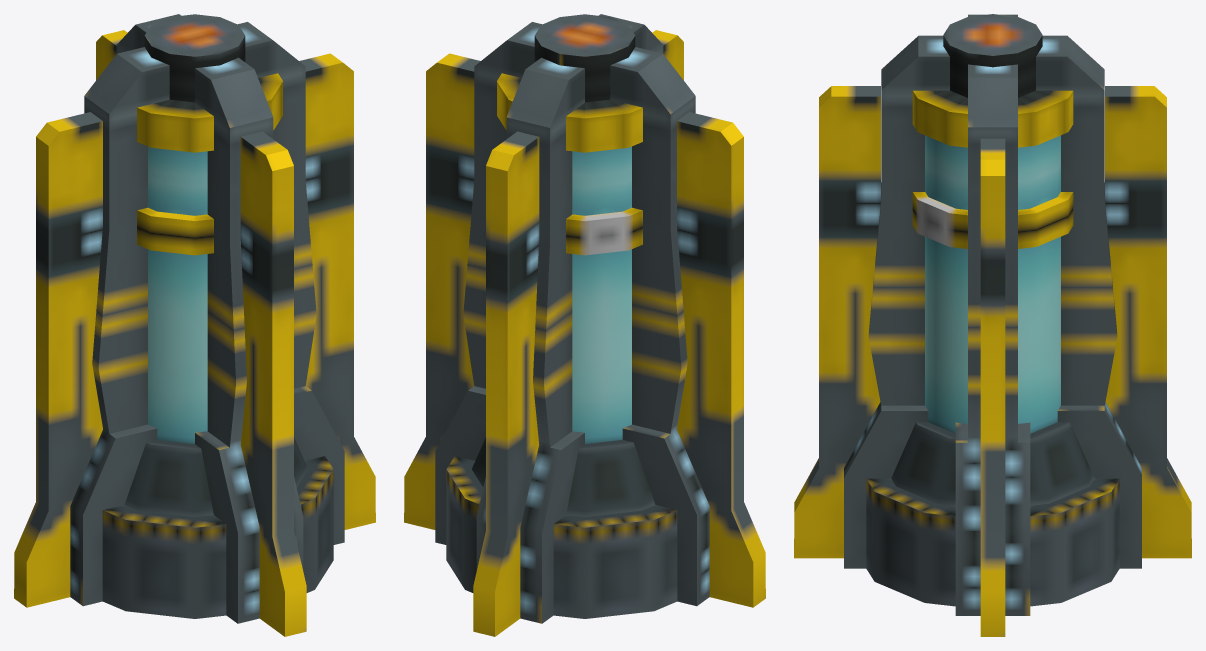
File: pylon.obj
3 renders of one model, left to right at view 1: azimuth 30°, elevation 25°; view 2: azimuth 150°, elevation 25°; view 3: azimuth 270°, elevation 25°, orthographic.
Parts seen in each view (by area): view 1: tin_arm002, thick_arm002, tin_arm001, thick_arm001, tin_arm, base, main_tube, thick_arm, base_cone, cap, top_ring, middle_ring (+2 smaller); view 2: tin_arm002, thick_arm002, tin_arm003, thick_arm003, tin_arm, base, main_tube, thick_arm, base_cone, cap, top_ring, middle_ring (+2 smaller); view 3: tin_arm001, tin_arm003, thick_arm001, thick_arm003, thick_arm, main_tube, base, tin_arm, base_cone, cap, top_ring, middle_ring.
Boxes of the visible parts, <box> form: tin_arm002: <box>14,112,102,607</box>; thick_arm002: <box>70,47,169,606</box>; tin_arm001: <box>240,131,306,636</box>; thick_arm001: <box>195,57,303,623</box>; tin_arm: <box>299,53,375,529</box>; base: <box>102,456,333,618</box>; main_tube: <box>148,146,207,443</box>; thick_arm: <box>238,22,344,544</box>; base_cone: <box>124,437,308,516</box>; cap: <box>144,14,245,102</box>; top_ring: <box>137,73,282,152</box>; middle_ring: <box>137,207,213,255</box>; tin_arm002: <box>677,112,765,607</box>; thick_arm002: <box>610,47,709,606</box>; tin_arm003: <box>473,131,539,636</box>; thick_arm003: <box>476,57,584,623</box>; tin_arm: <box>404,53,480,529</box>; base: <box>446,456,677,618</box>; main_tube: <box>572,146,631,443</box>; thick_arm: <box>435,22,541,544</box>; base_cone: <box>471,437,655,516</box>; cap: <box>534,14,635,102</box>; top_ring: <box>497,73,642,152</box>; middle_ring: <box>566,207,642,255</box>; tin_arm001: <box>794,86,880,558</box>; tin_arm003: <box>1105,86,1191,558</box>; thick_arm001: <box>844,35,949,568</box>; thick_arm003: <box>1036,35,1141,568</box>; thick_arm: <box>955,64,1030,615</box>; main_tube: <box>925,135,1060,433</box>; base: <box>866,478,1119,606</box>; tin_arm: <box>980,138,1005,636</box>; base_cone: <box>891,422,1094,505</box>; cap: <box>943,14,1042,97</box>; top_ring: <box>912,90,1073,147</box>; middle_ring: <box>912,192,1073,248</box>.
Bounding box in the file's own units: 1.98 × 2.85 × 1.98.
